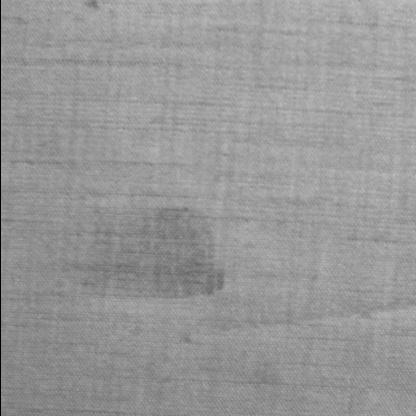oil spot: (54, 204, 228, 302)
